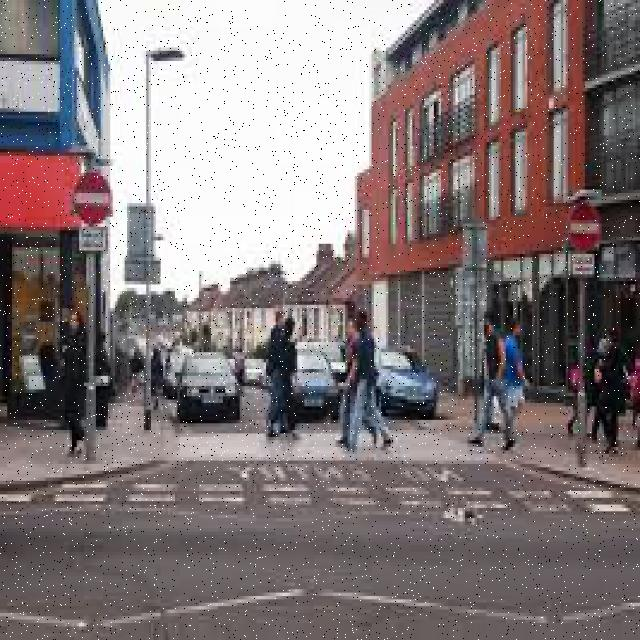no entry: (74, 170, 113, 223), (570, 203, 602, 247)
